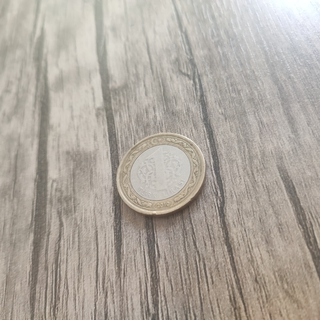1TL: (114, 130, 207, 217)
